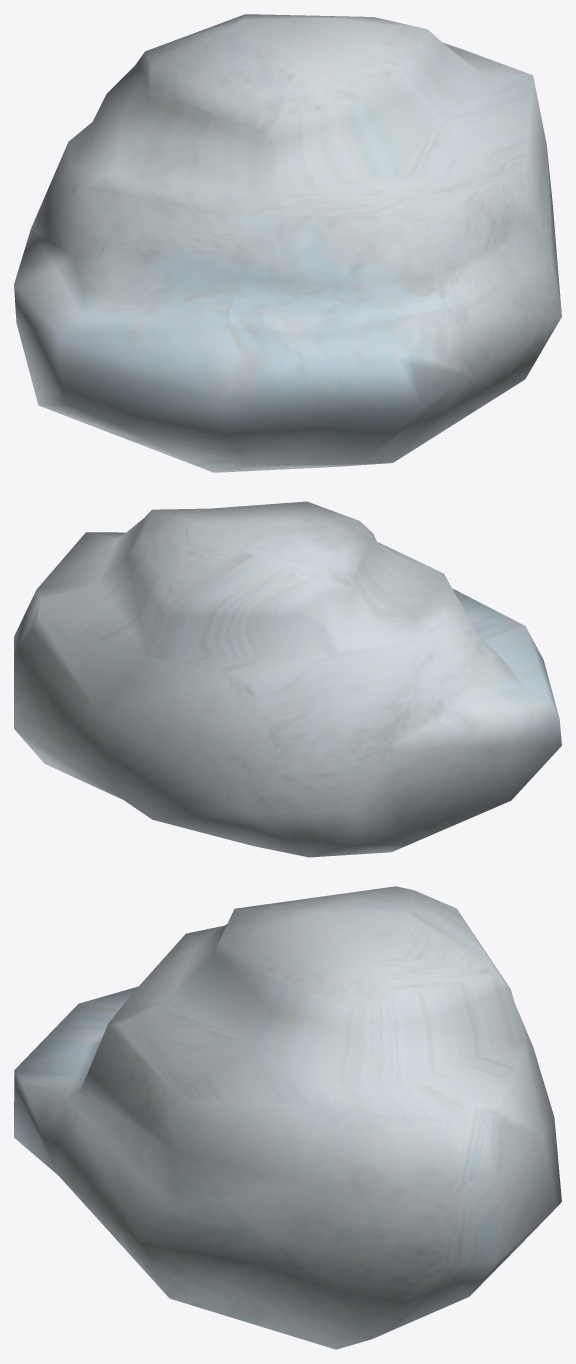
Rendered from P_RockDesert_Rock11.obj.
The picture shows the model from 3 angles, top to bottom: view 1: azimuth 30°, elevation 25°; view 2: azimuth 150°, elevation 25°; view 3: azimuth 270°, elevation 25°; orthographic projection. The views are drawn at different scales.
Bounding box in the file's own units: 3.06 × 2.04 × 2.7.
